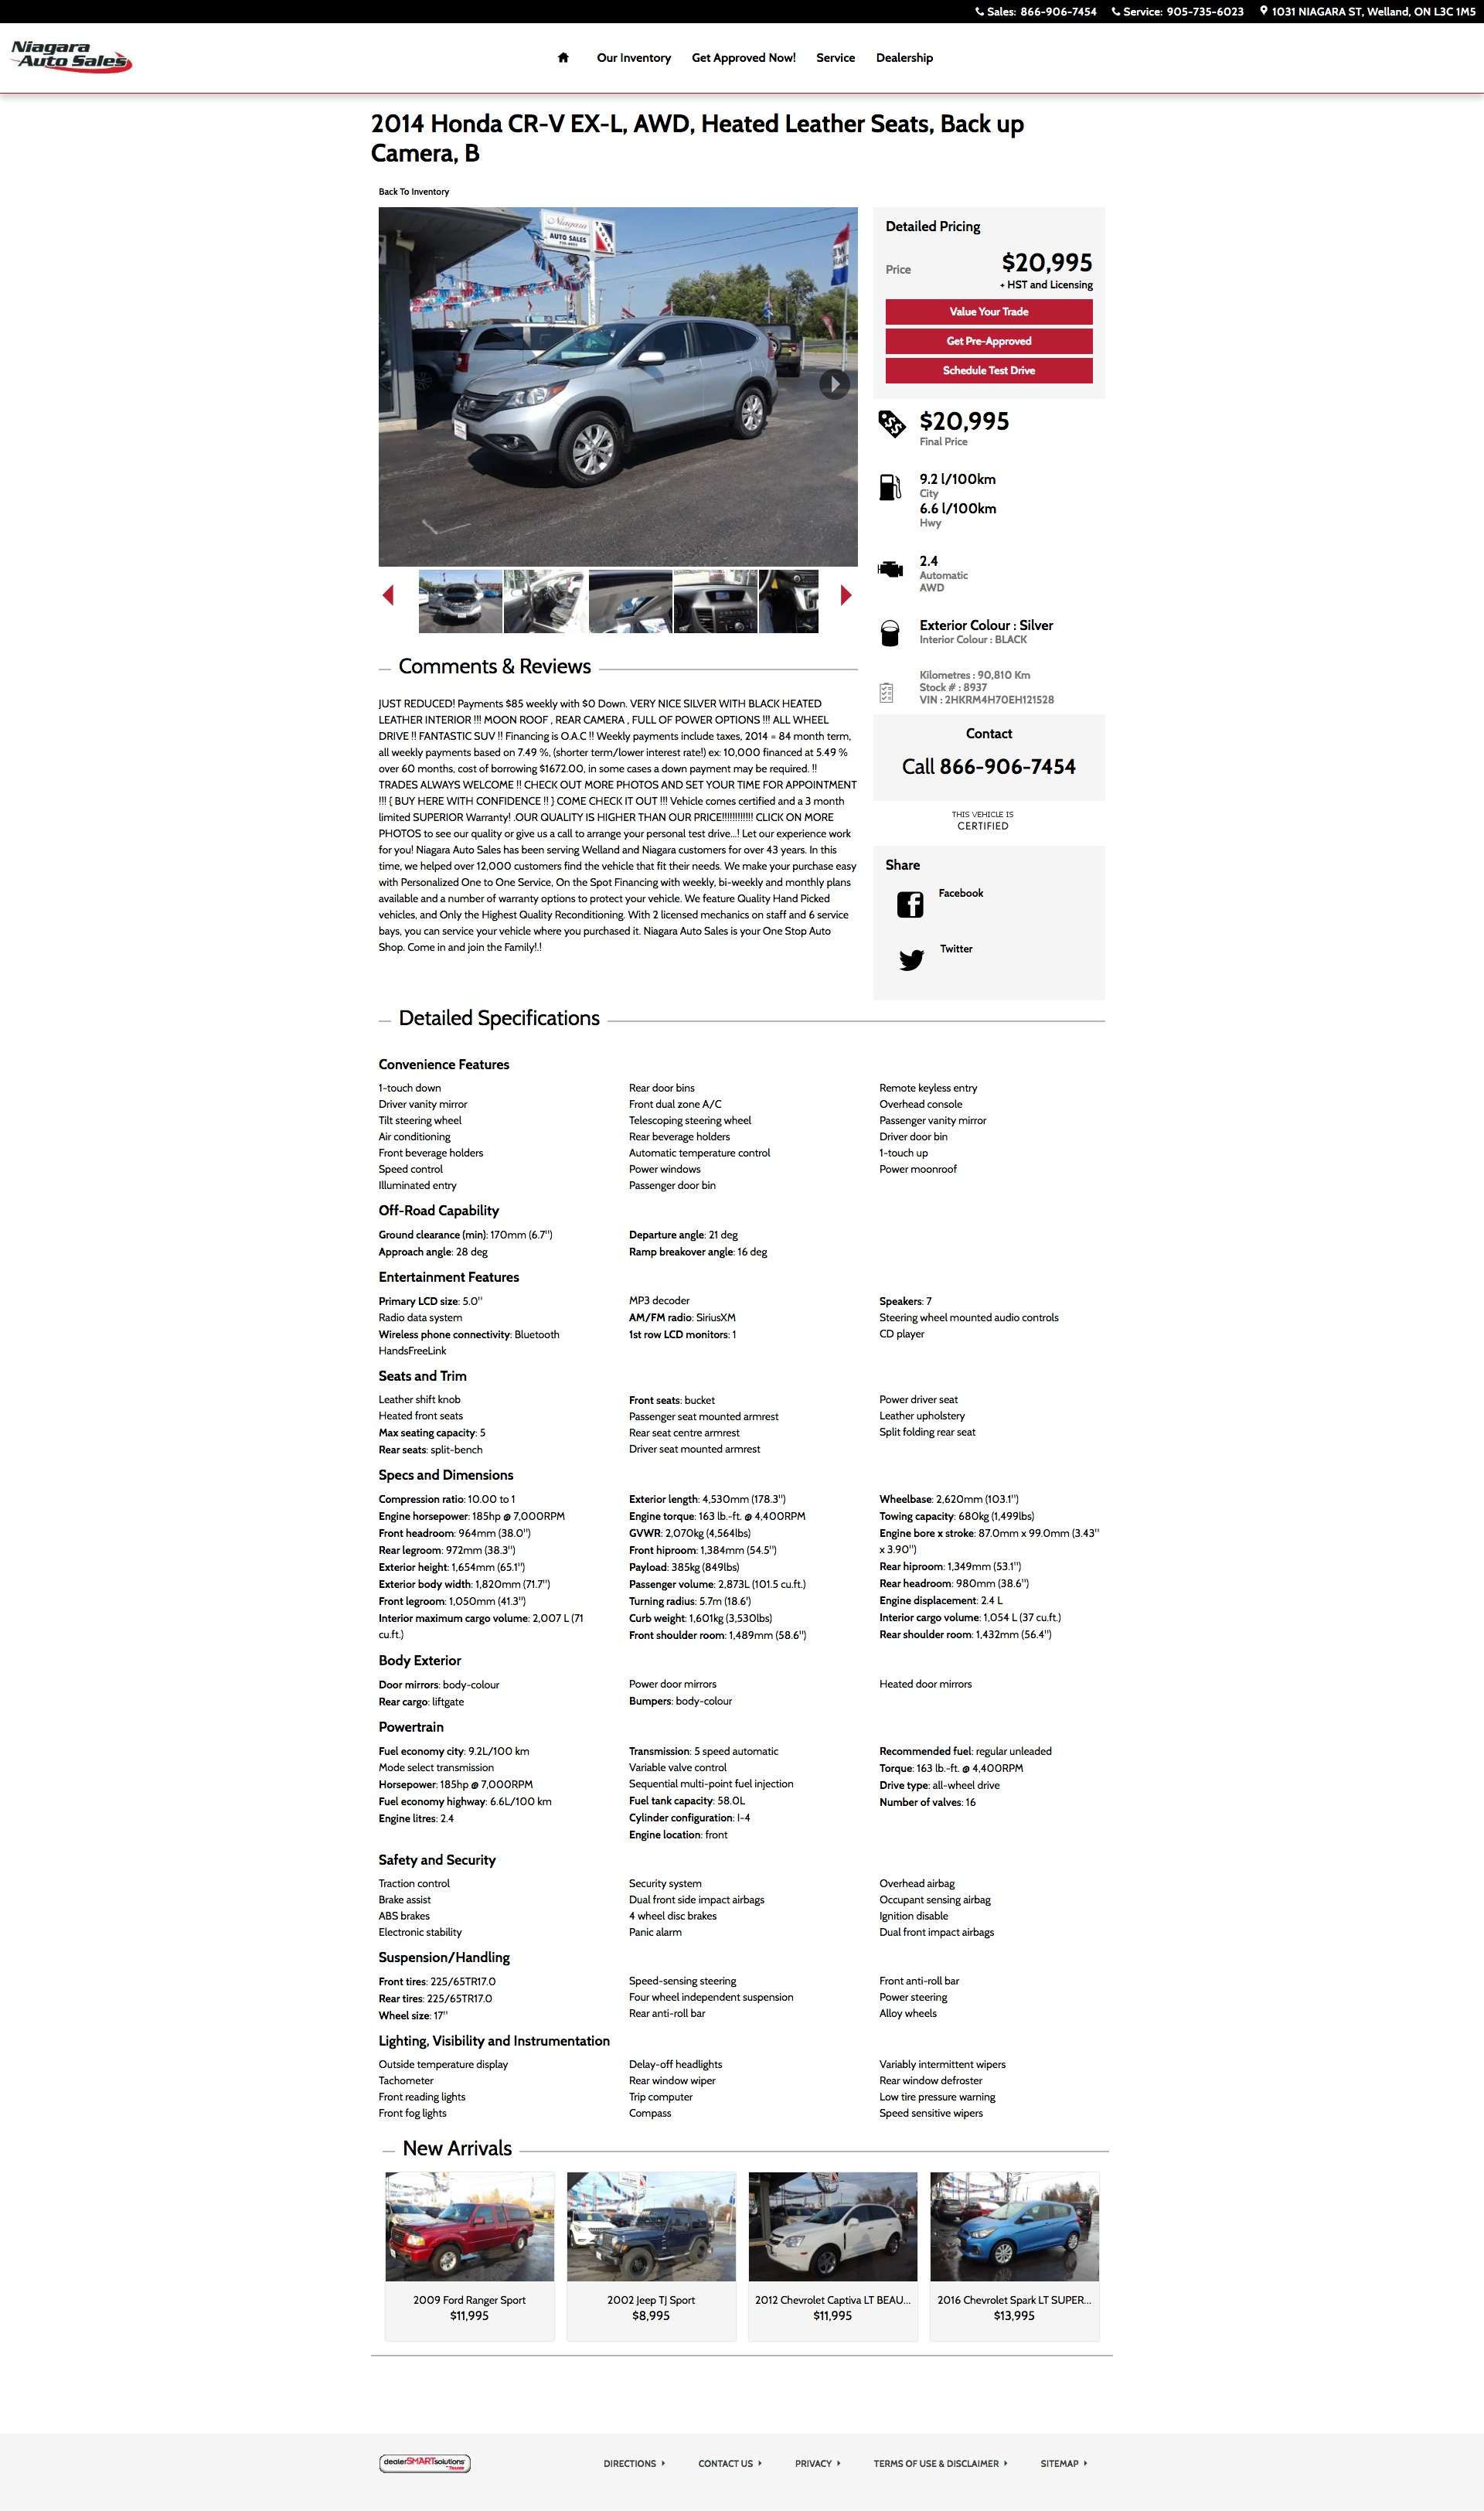car: (841, 583, 853, 606)
